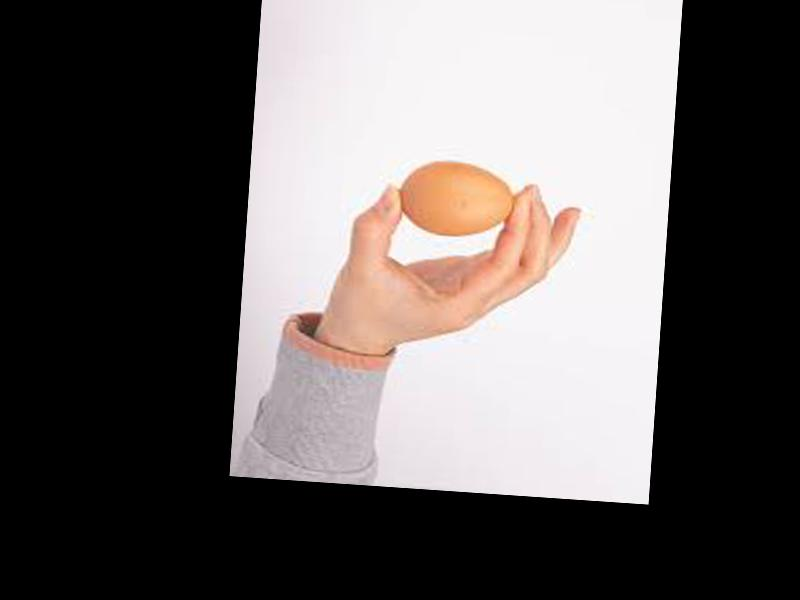Eggs: (400, 158, 518, 238)
